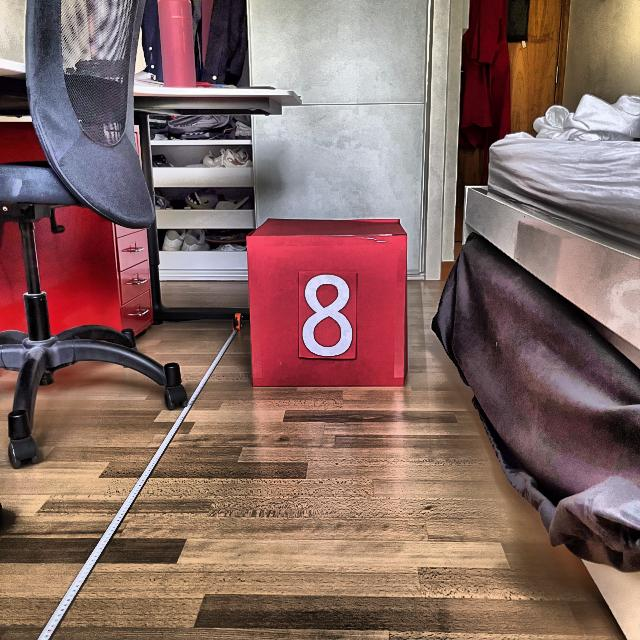eight: (301, 273, 354, 357)
red box: (244, 220, 408, 387)
